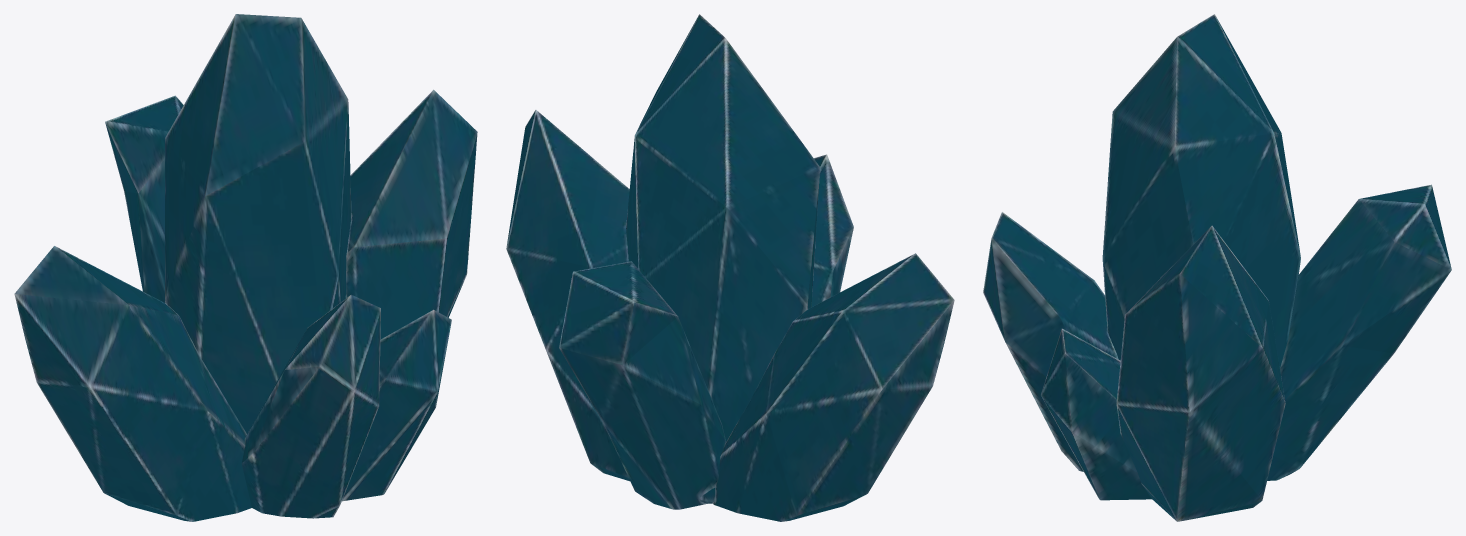
File: energon.glb
3 renders of one model, left to right at view 1: azimuth 30°, elevation 25°; view 2: azimuth 150°, elevation 25°; view 3: azimuth 270°, elevation 25°, orthographic. The views are drawn at different scales.
Visible parts, largest first — view 1: crystals_crystals_0; view 2: crystals_crystals_0; view 3: crystals_crystals_0.
Boxes of the visible parts, box(x1,y1,x2,y2) form: crystals_crystals_0: box(14, 14, 477, 521); crystals_crystals_0: box(506, 14, 954, 521); crystals_crystals_0: box(983, 14, 1451, 521).
Size of the model in its own units: 2.27 by 2.2 by 2.11.
Materials: 1 (1 with a texture image).
